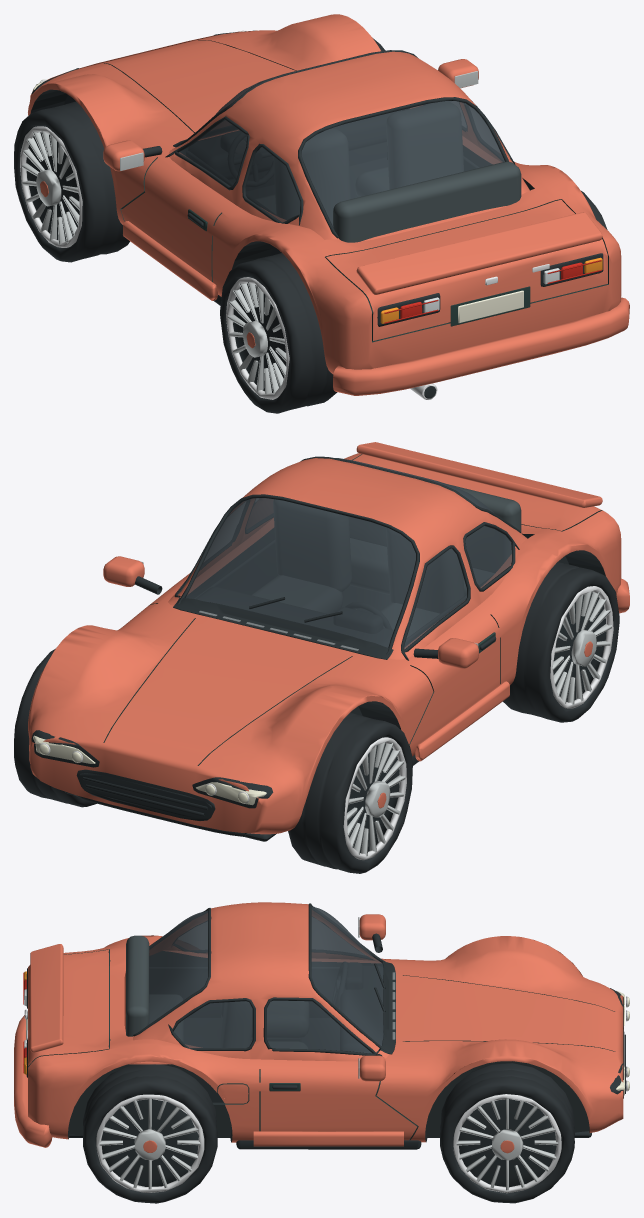
File: sakura_lod2.fbx
3 renders of one model, top to bottom at view 1: azimuth 30°, elevation 25°; view 2: azimuth 150°, elevation 25°; view 3: azimuth 270°, elevation 25°, orthographic. The views are drawn at different scales.
Parts seen in each view (by area): view 1: Body, Wheel_RL_Mesh, Wheel_FL_Mesh; view 2: Body, Wheel_FL_Mesh, Wheel_RL_Mesh, Wheel_FR_Mesh; view 3: Body, Wheel_FR_Mesh, Wheel_RR_Mesh.
Boxes of the visible parts, bbox=[...] form: Body: bbox=[28, 14, 629, 399]; Wheel_RL_Mesh: bbox=[220, 253, 337, 413]; Wheel_FL_Mesh: bbox=[14, 101, 129, 262]; Body: bbox=[28, 442, 629, 841]; Wheel_FL_Mesh: bbox=[288, 712, 412, 873]; Wheel_RL_Mesh: bbox=[503, 562, 619, 722]; Wheel_FR_Mesh: bbox=[14, 648, 96, 807]; Body: bbox=[14, 902, 629, 1149]; Wheel_FR_Mesh: bbox=[440, 1063, 574, 1203]; Wheel_RR_Mesh: bbox=[83, 1064, 217, 1203].
Size of the model in its own units: 233 by 146 by 393.
